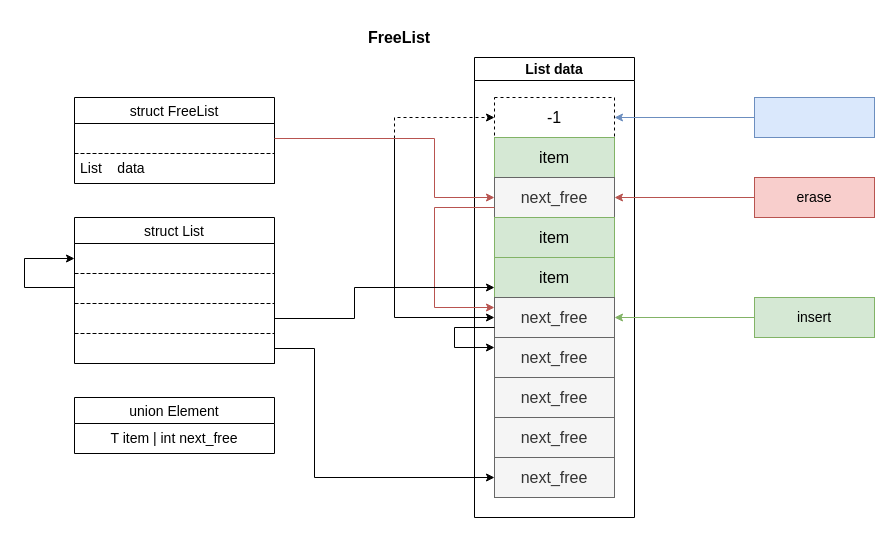
This 892x535 diagram has some shape labels left out. The shapes that lost their labels are listed below. From the top down, each one's centre as x and y in pixels, then its label:
point (814, 117): clear
point (174, 138): int first_free
point (174, 258): Element buff[fixed_cap]
point (174, 288): Element* data
point (174, 318): int count
point (174, 348): int cap
